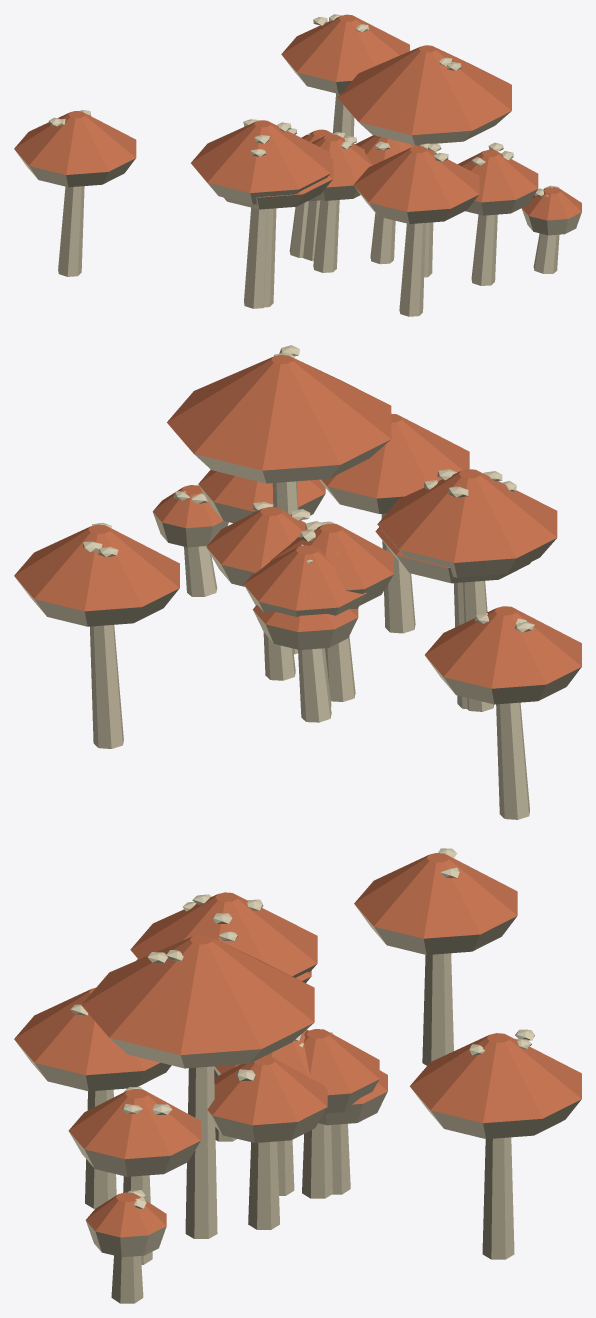
The model's file is mushroom_patch.glb.
3 renders of one model, top to bottom at view 1: azimuth 30°, elevation 25°; view 2: azimuth 150°, elevation 25°; view 3: azimuth 270°, elevation 25°, orthographic. The views are drawn at different scales.
Parts seen in each view (by area): view 1: mushroom_patch; view 2: mushroom_patch; view 3: mushroom_patch.
Boxes of the visible parts, x1,y1,x2,y2 form: mushroom_patch: [14, 14, 581, 316]; mushroom_patch: [14, 345, 581, 819]; mushroom_patch: [14, 848, 581, 1303].
Size of the model in its own units: 1.45 by 0.7041 by 1.21.
